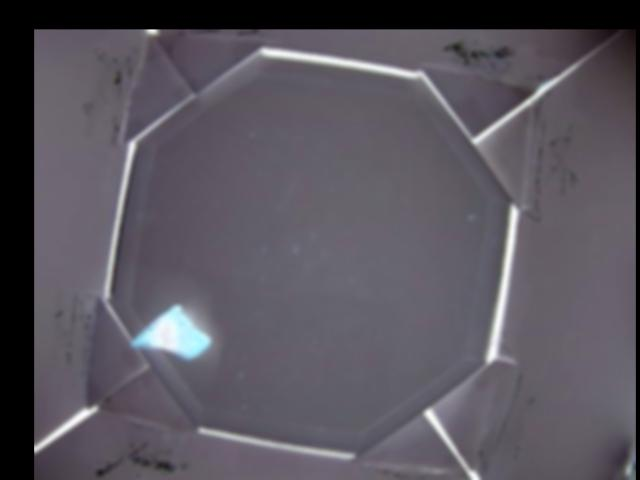Brisk: (129, 304, 211, 359)
